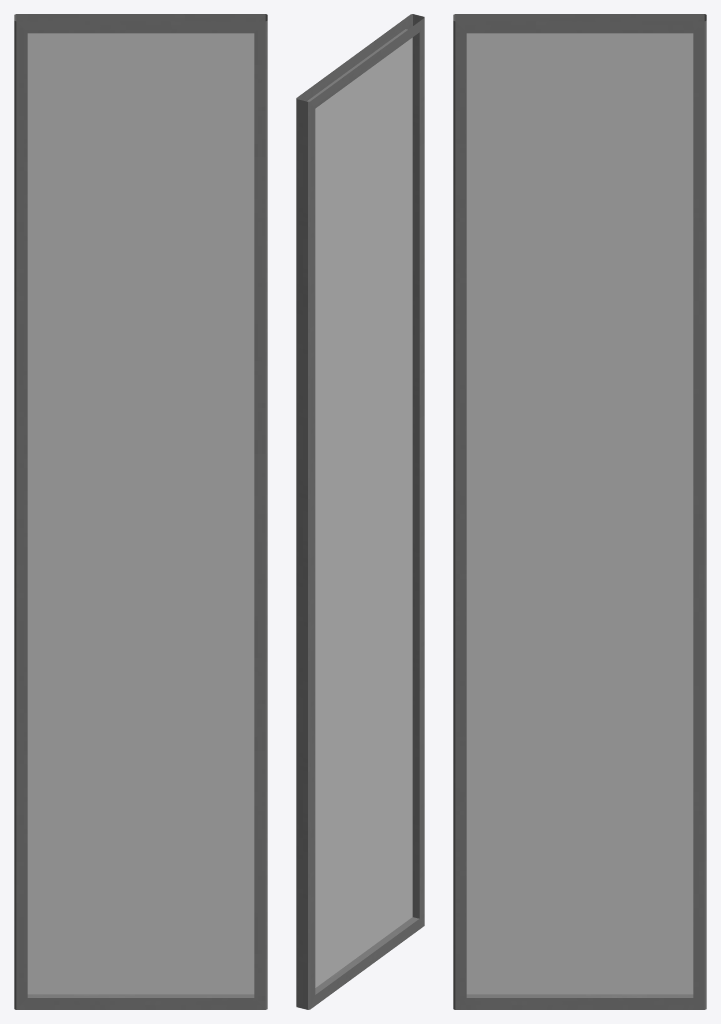
File: GlassWallNarrow.glb
The picture shows the model from 3 angles, left to right: view 1: azimuth 90°, elevation 25°; view 2: azimuth 150°, elevation 25°; view 3: azimuth 270°, elevation 25°; orthographic projection. The views are drawn at different scales.
Parts seen in each view (by area): view 1: glass wall narrow; view 2: glass wall narrow; view 3: glass wall narrow.
Part boxes in pixels (box(x1,y1,x2,y2)): glass wall narrow: box(14, 14, 267, 1009); glass wall narrow: box(296, 14, 424, 1009); glass wall narrow: box(453, 14, 706, 1009).
Bounding box in the file's own units: 0.04 × 2.5 × 0.5798.
2 materials, 1 textured.
